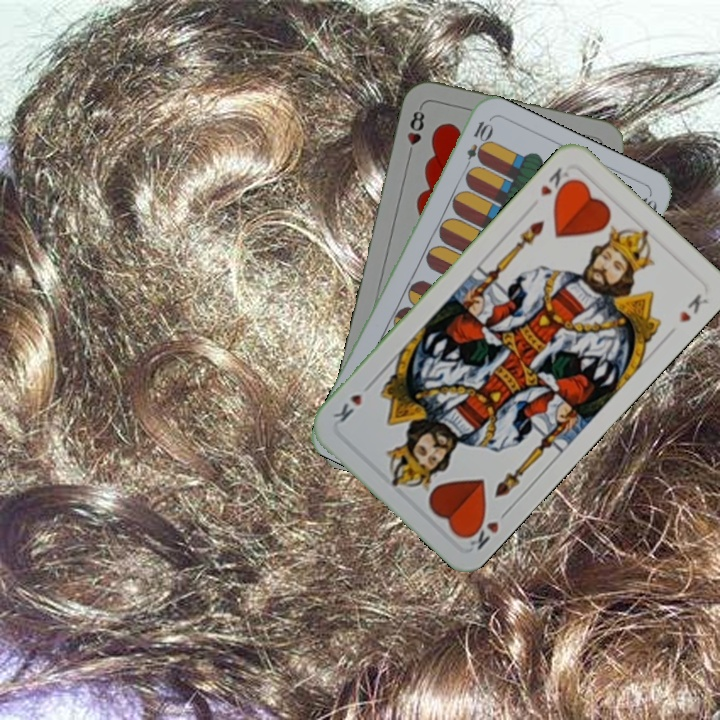E10: (460, 117, 494, 174)
H8: (403, 102, 428, 161)
HK: (461, 505, 513, 553), (536, 163, 577, 203)
